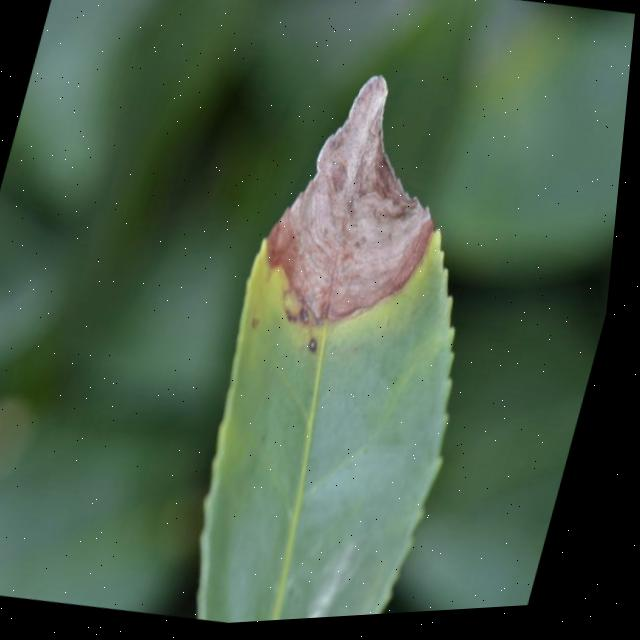Tea cloud leaf blight: (248, 57, 493, 356)
